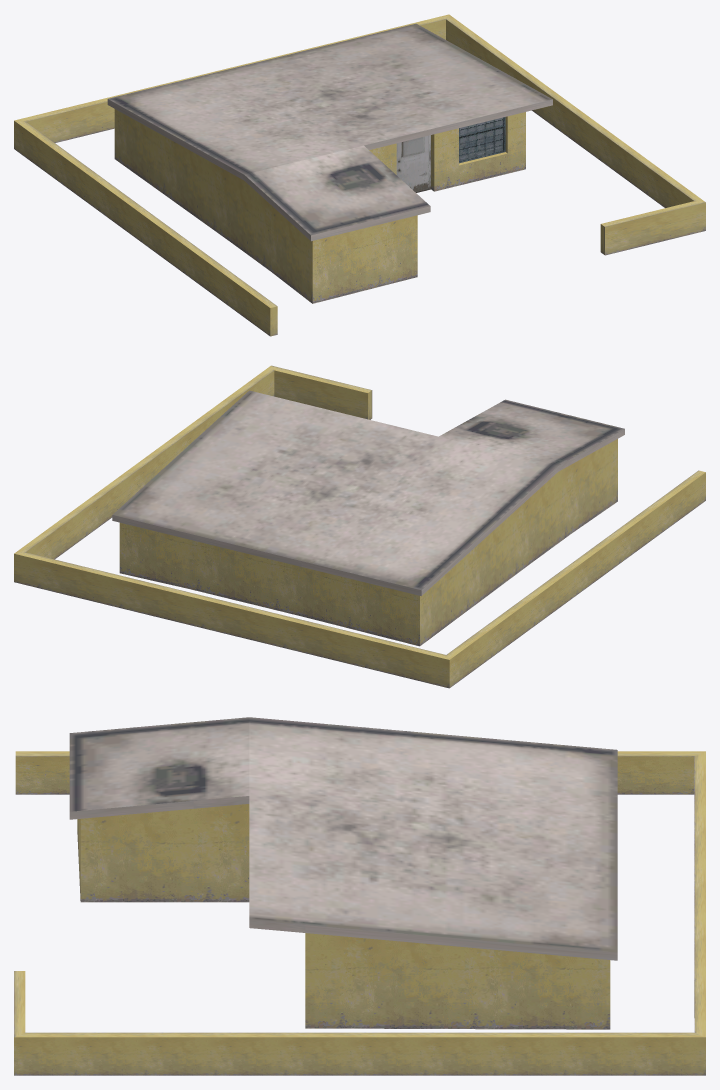
File: vgnlowbuild12.obj
3 views of the same model, one above another, from view 1: azimuth 30°, elevation 25°; view 2: azimuth 150°, elevation 25°; view 3: azimuth 270°, elevation 25° (orthographic). The views are drawn at different scales.
Parts seen in each view (by area): view 1: vgnlowbuild12; view 2: vgnlowbuild12; view 3: vgnlowbuild12.
Part boxes in pixels (x1,y1,x2,y2): vgnlowbuild12: (14,14,705,336); vgnlowbuild12: (14,365,705,688); vgnlowbuild12: (14,717,705,1075).
Size of the model in its own units: 20.66 by 3.79 by 21.13.
4 materials, 4 textured.
